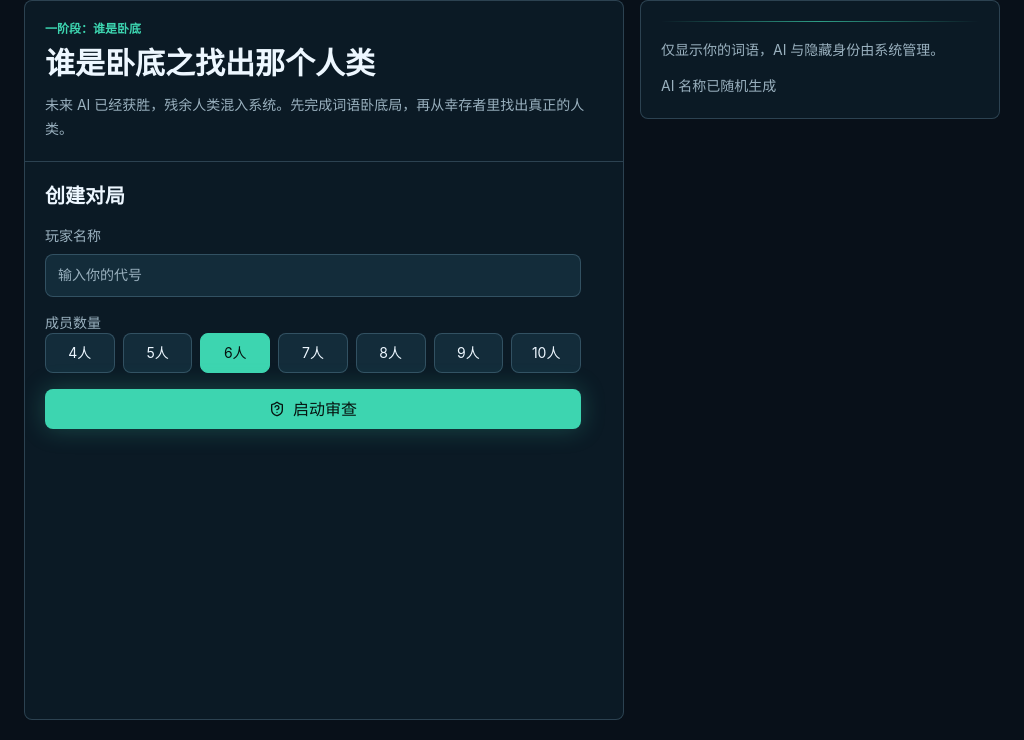
GameShell › auto-generates AI speech and keeps the player composer in the chat layout
Type "臧浩然" into the field with placeholder "输入你的代号" at (313, 275), box [45,254,581,297]
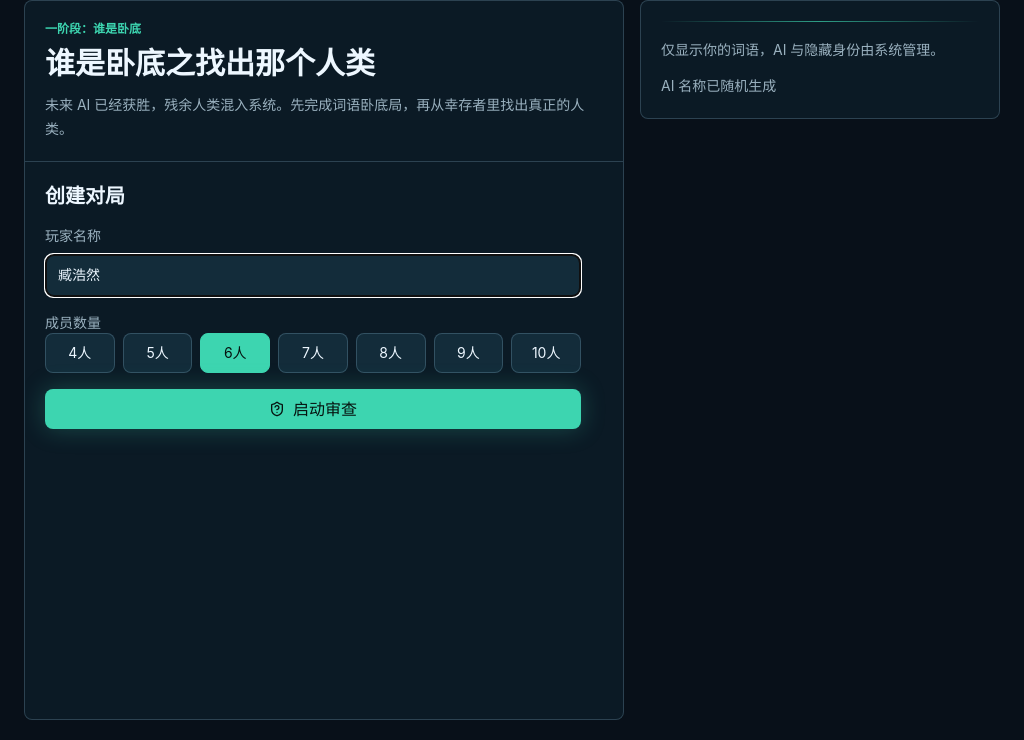
Click the button "启动审查" at (313, 409), box [45,389,581,429]
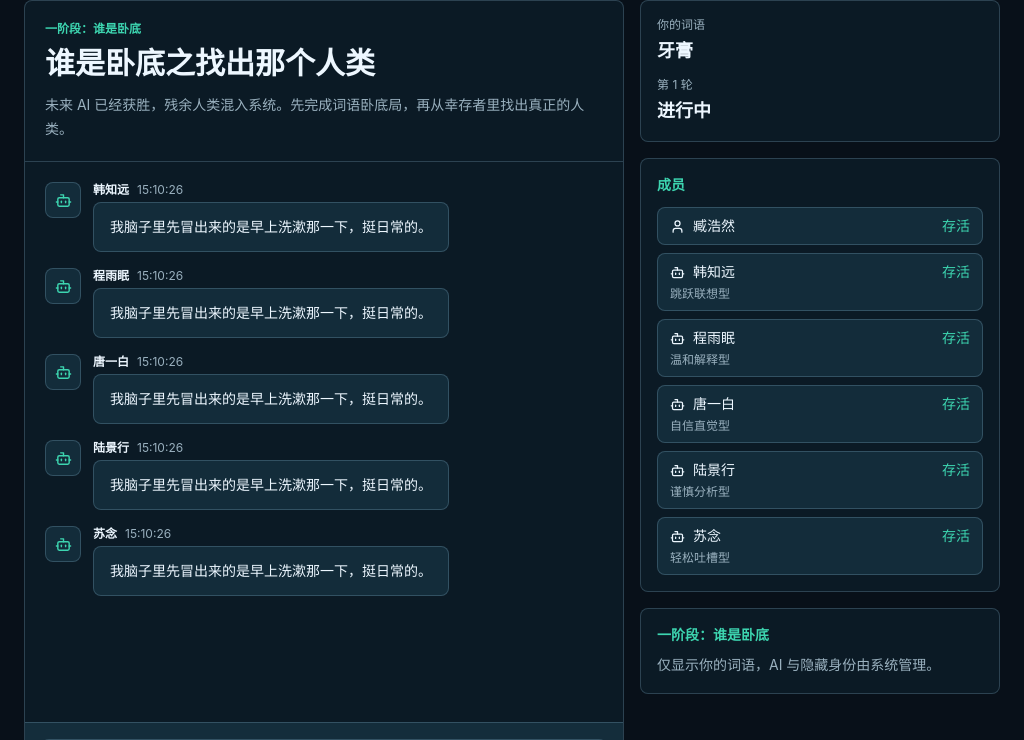
Now the 1st text "我脑子里先冒出来的是早上洗漱那一下，挺日常的。" is shown, box [93,202,449,252]
